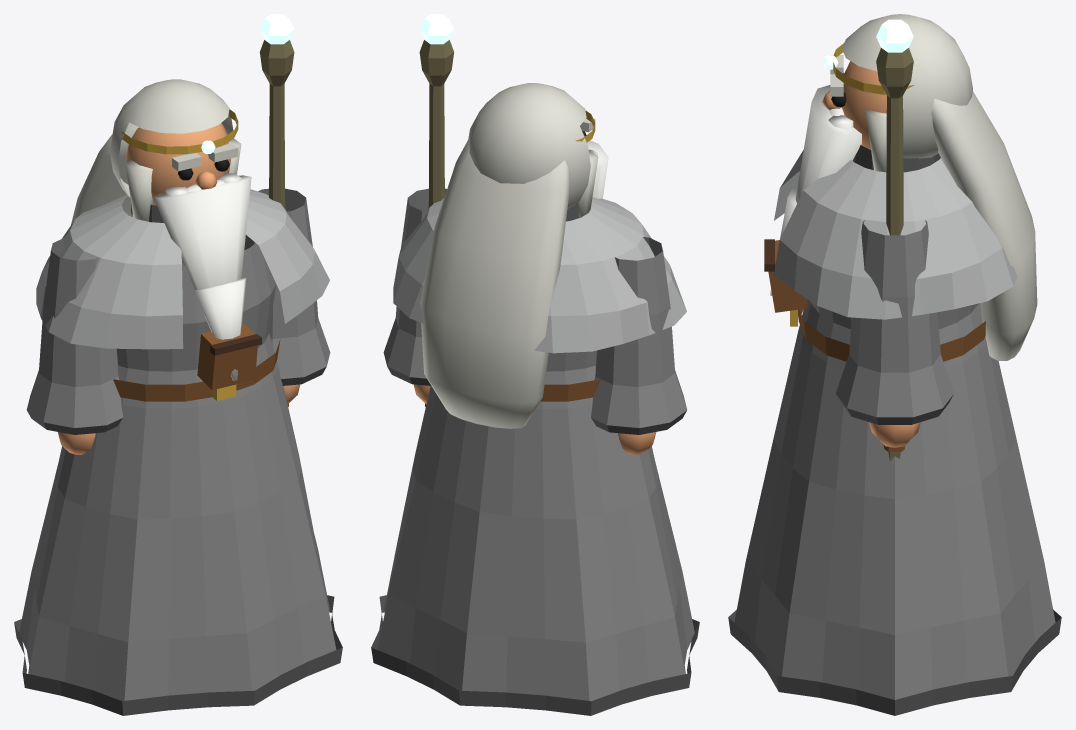
Rendered from mage.glb.
3 renders of one model, left to right at view 1: azimuth 30°, elevation 25°; view 2: azimuth 150°, elevation 25°; view 3: azimuth 270°, elevation 25°, orthographic. The views are drawn at different scales.
Visible parts, largest first — view 1: Body, Head, ArmL, ArmR, Staff; view 2: Body, Head, ArmL, Staff, ArmR; view 3: Body, Head, ArmR, Staff.
Boxes of the visible parts, x1,y1,x2,y2 form: Body: [14, 189, 342, 715]; Head: [71, 79, 251, 380]; ArmL: [26, 237, 123, 454]; ArmR: [244, 188, 330, 403]; Staff: [259, 14, 294, 406]; Body: [371, 197, 699, 715]; Head: [420, 83, 608, 428]; ArmL: [591, 237, 687, 454]; Staff: [419, 14, 454, 406]; ArmR: [383, 188, 446, 403]; Body: [728, 145, 1061, 715]; Head: [770, 14, 1037, 360]; ArmR: [835, 220, 954, 447]; Staff: [876, 19, 913, 461].
Size of the model in its own units: 1.46 by 2.73 by 1.24.
